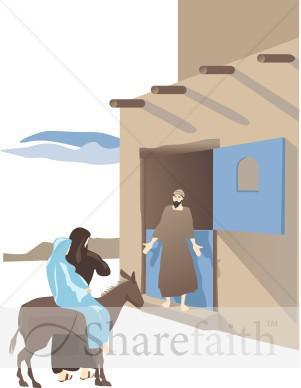horse: (14, 268, 140, 387)
person: (52, 223, 111, 384), (46, 233, 114, 349), (143, 188, 205, 310)
